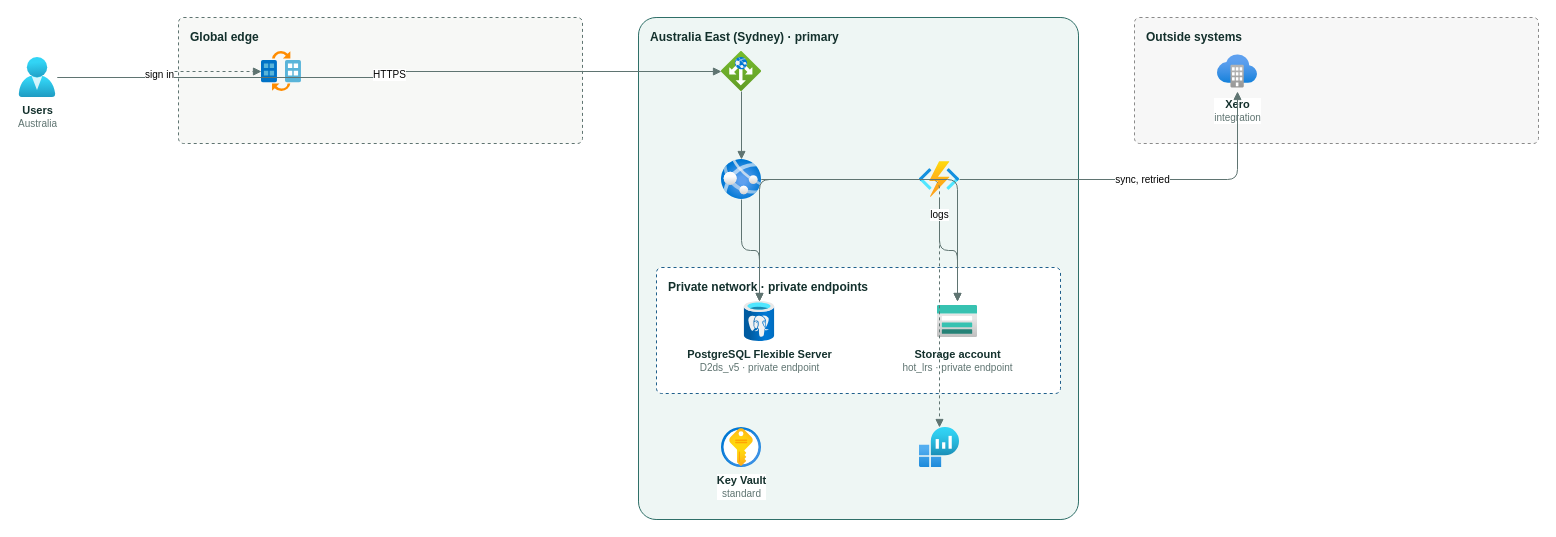
Some shapes in this 1556 by 537 pixel diagram are drawn without their labels. Here are the shapes that lost their labels. From the top down, the centre of each, then its label:
At point 281,71: "Microsoft Entra External ID core".
At point 741,71: "Application Gateway WAF v2 waf_v2".
At point 741,179: "App Service S1".
At point 939,179: "Functions flex".
At point 939,447: "Log Analytics workspace pay_as_you_go".
